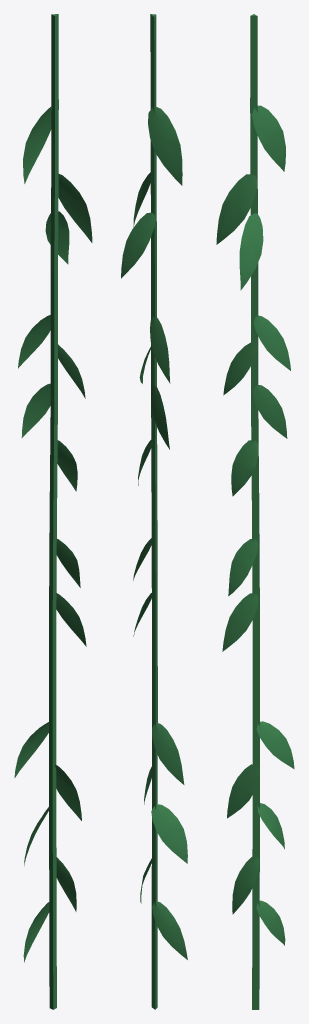
Rendered from vine_F_scanden.fbx.
3 renders of one model, left to right at view 1: azimuth 90°, elevation 25°; view 2: azimuth 210°, elevation 25°; view 3: azimuth 270°, elevation 25°, orthographic.
Parts seen in each view (by area): view 1: vine_F_sacanden_root, vine_F_scanden_A_leaf_A7, vine_F_scanden_A_leaf_A, vine_F_scanden_A_leaf_A3, vine_F_scanden_A_leaf_A2, vine_F_scanden_A_leaf_A13, vine_F_scanden_A_leaf_A4, vine_F_scanden_A_leaf_A12, vine_F_scanden_A_leaf_A8, vine_F_scanden_A_leaf_A10, vine_F_scanden_A_leaf_A11, vine_F_scanden_A_leaf_A14 (+2 smaller); view 2: vine_F_sacanden_root, vine_F_scanden_A_leaf_A, vine_F_scanden_A_leaf_A5, vine_F_scanden_A_leaf_A8, vine_F_scanden_A_leaf_A4, vine_F_scanden_A_leaf_A6, vine_F_scanden_A_leaf_A2, vine_F_scanden_A_leaf_A3, vine_F_scanden_A_leaf_A7, vine_F_scanden_A_leaf_A11; view 3: vine_F_sacanden_root, vine_F_scanden_A_leaf_A7, vine_F_scanden_A_leaf_A, vine_F_scanden_A_leaf_A8, vine_F_scanden_A_leaf_A12, vine_F_scanden_A_leaf_A3, vine_F_scanden_A_leaf_A2, vine_F_scanden_A_leaf_A13, vine_F_scanden_A_leaf_A10, vine_F_scanden_A_leaf_A11, vine_F_scanden_A_leaf_A4, vine_F_scanden_A_leaf_A14 (+3 smaller).
Boxes of the visible parts, x1,y1,x2,y2 form: vine_F_sacanden_root: (49, 14, 58, 1009); vine_F_scanden_A_leaf_A7: (58, 173, 92, 242); vine_F_scanden_A_leaf_A: (23, 106, 52, 183); vine_F_scanden_A_leaf_A3: (21, 383, 50, 437); vine_F_scanden_A_leaf_A2: (18, 314, 50, 368); vine_F_scanden_A_leaf_A13: (55, 764, 81, 820); vine_F_scanden_A_leaf_A4: (14, 721, 49, 777); vine_F_scanden_A_leaf_A12: (56, 593, 86, 646); vine_F_scanden_A_leaf_A8: (45, 211, 69, 264); vine_F_scanden_A_leaf_A10: (57, 440, 77, 491); vine_F_scanden_A_leaf_A11: (56, 538, 80, 587); vine_F_scanden_A_leaf_A14: (55, 856, 76, 911); vine_F_sacanden_root: (150, 14, 157, 1009); vine_F_scanden_A_leaf_A: (148, 106, 182, 185); vine_F_scanden_A_leaf_A5: (151, 804, 187, 863); vine_F_scanden_A_leaf_A8: (121, 212, 155, 278); vine_F_scanden_A_leaf_A4: (152, 723, 184, 784); vine_F_scanden_A_leaf_A6: (152, 901, 187, 959); vine_F_scanden_A_leaf_A2: (150, 316, 170, 383); vine_F_scanden_A_leaf_A3: (151, 385, 169, 449); vine_F_scanden_A_leaf_A7: (133, 172, 151, 226); vine_F_scanden_A_leaf_A11: (133, 538, 152, 580); vine_F_sacanden_root: (250, 14, 259, 1009); vine_F_scanden_A_leaf_A7: (216, 174, 257, 244); vine_F_scanden_A_leaf_A: (252, 105, 285, 171); vine_F_scanden_A_leaf_A8: (239, 213, 263, 290); vine_F_scanden_A_leaf_A12: (222, 593, 258, 651); vine_F_scanden_A_leaf_A3: (253, 385, 287, 438); vine_F_scanden_A_leaf_A2: (253, 315, 290, 370); vine_F_scanden_A_leaf_A13: (227, 764, 259, 818); vine_F_scanden_A_leaf_A10: (231, 440, 258, 496); vine_F_scanden_A_leaf_A11: (228, 539, 258, 596); vine_F_scanden_A_leaf_A4: (256, 721, 294, 769); vine_F_scanden_A_leaf_A14: (232, 856, 259, 914).
Size of the model in its own units: 15.79 by 329 by 23.4.
